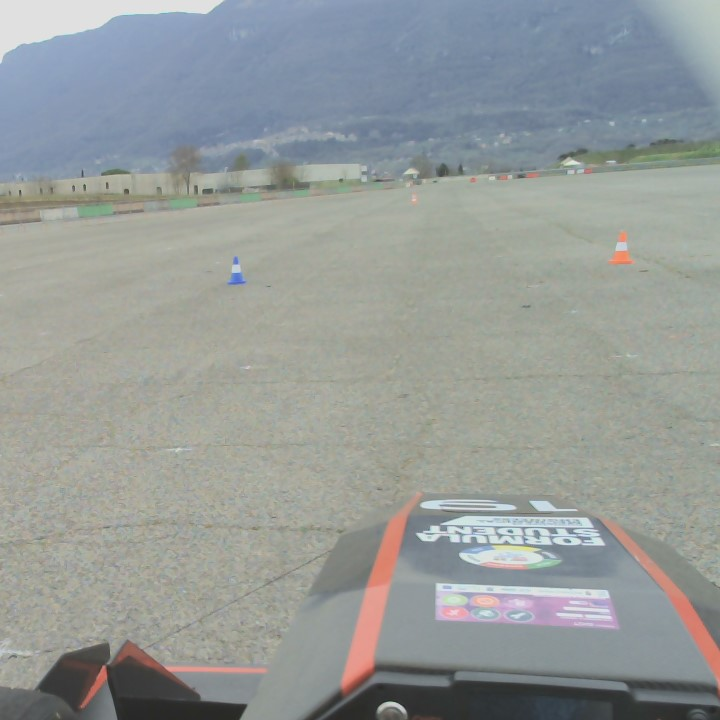cone: (229, 254, 245, 285)
